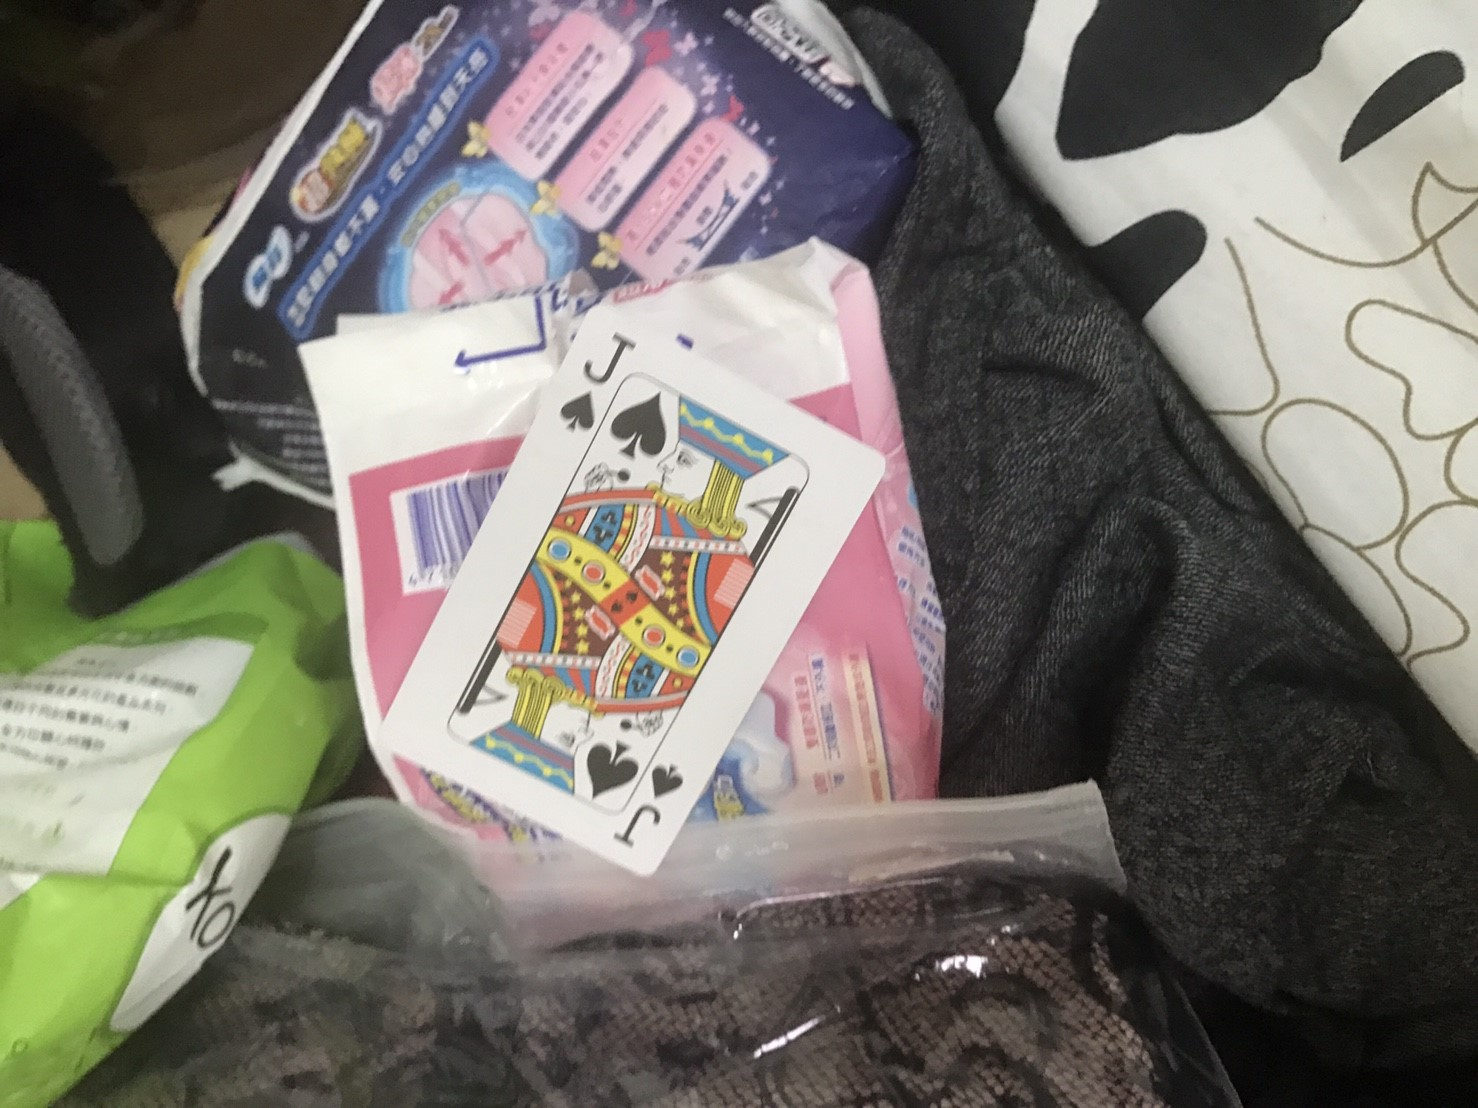spades: (610, 388, 670, 459), (580, 737, 641, 798), (556, 388, 601, 433), (645, 761, 688, 802)
